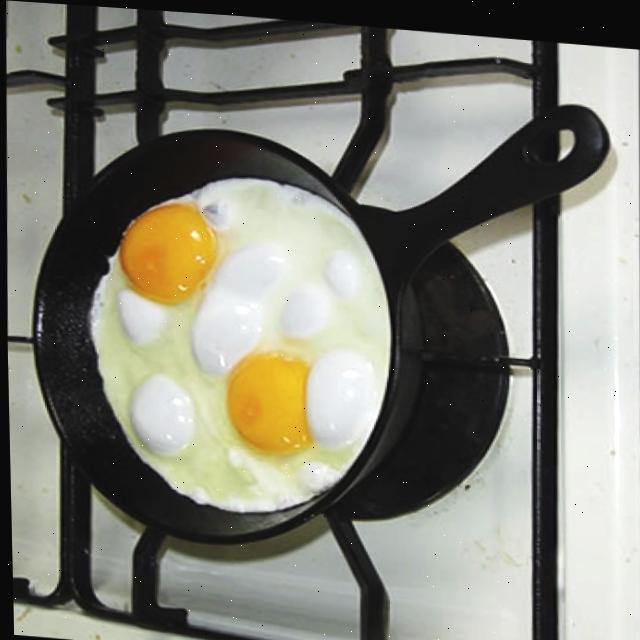鸡蛋料理: (57, 115, 421, 536)
